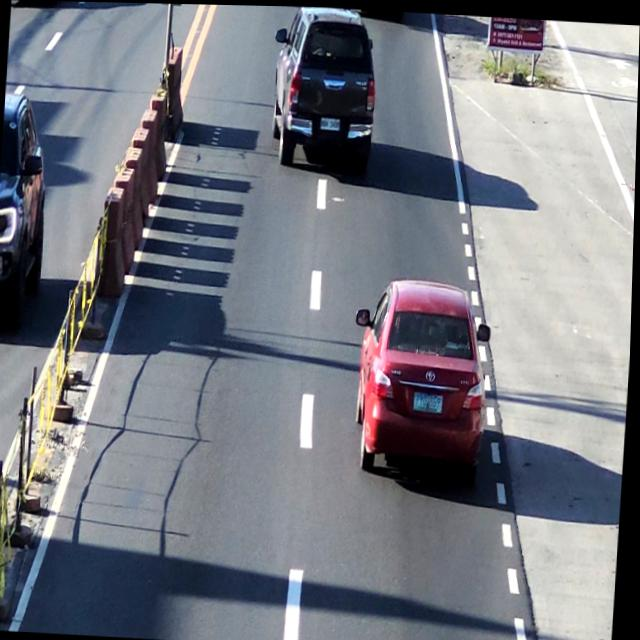Car: (356, 275, 497, 485), (268, 5, 382, 175)
License-Plate: (415, 388, 446, 416), (319, 114, 341, 133)
